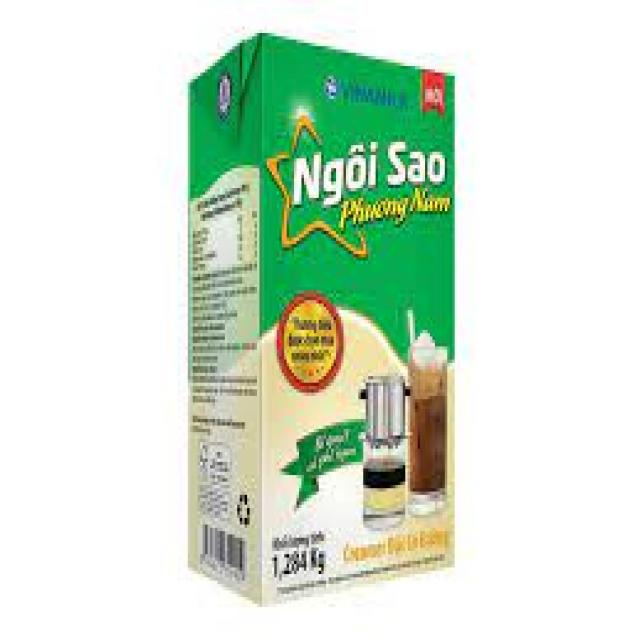non_white_jug: (185, 26, 472, 604), (277, 379, 640, 640)
